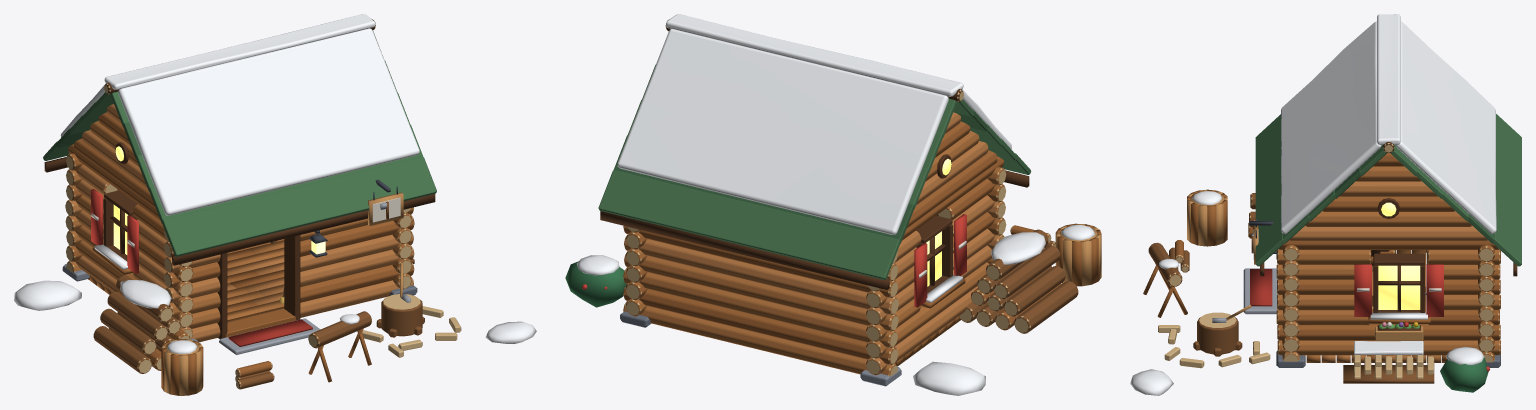
The model's file is woodcutter.glb.
3 views of the same model, side by side, from view 1: azimuth 30°, elevation 25°; view 2: azimuth 150°, elevation 25°; view 3: azimuth 270°, elevation 25° (orthographic). The views are drawn at different scales.
Visible parts, largest first — view 1: roof, walls, exterior, floor, walls_low; view 2: roof, walls, exterior; view 3: roof, walls, exterior, floor.
Part boxes in pixels (x1,y1,x2,y2): roof: (43,14,436,265); walls: (62,144,417,342); exterior: (14,259,536,395); floor: (88,239,320,354); walls_low: (66,236,414,338); roof: (598,14,1031,289); walls: (620,156,1006,386); exterior: (565,223,1101,395); roof: (1255,14,1521,276); walls: (1249,219,1500,367); exterior: (1130,189,1489,395); floor: (1243,250,1446,362).
Bounding box in the file's own units: 6.11 × 3.75 × 5.62.
